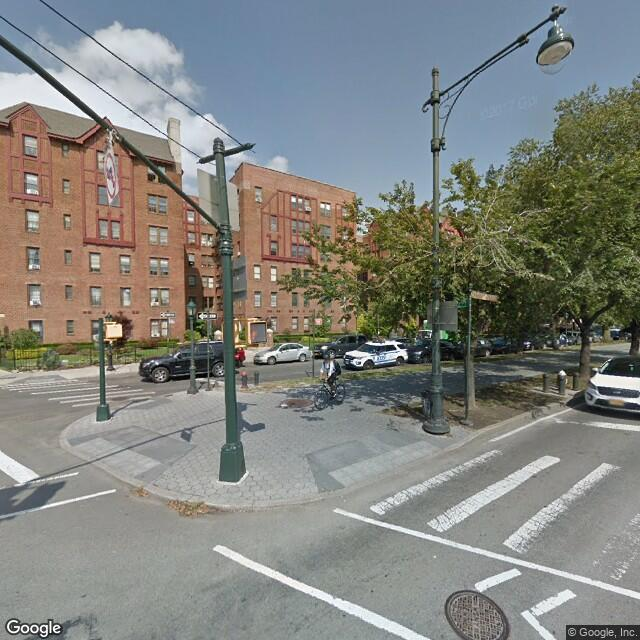litter: (276, 401, 290, 410)
